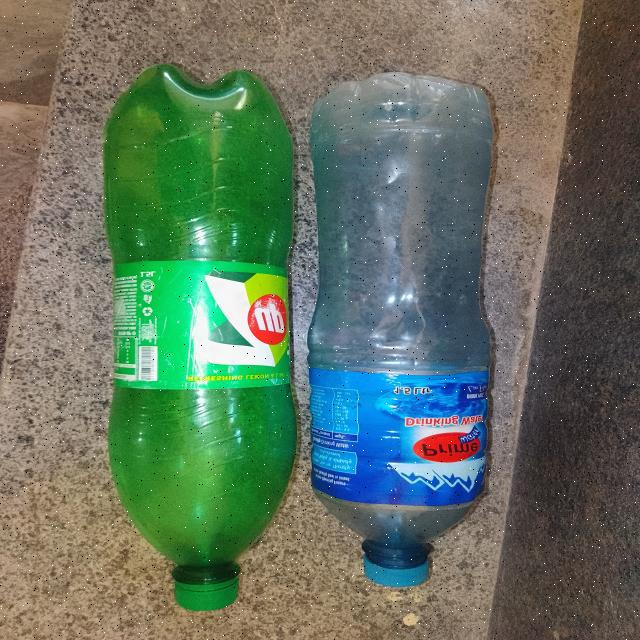bottle: (103, 53, 304, 620), (318, 67, 518, 609)
cap: (168, 567, 250, 617), (348, 549, 438, 594)
label: (328, 356, 491, 504), (113, 256, 285, 394)
